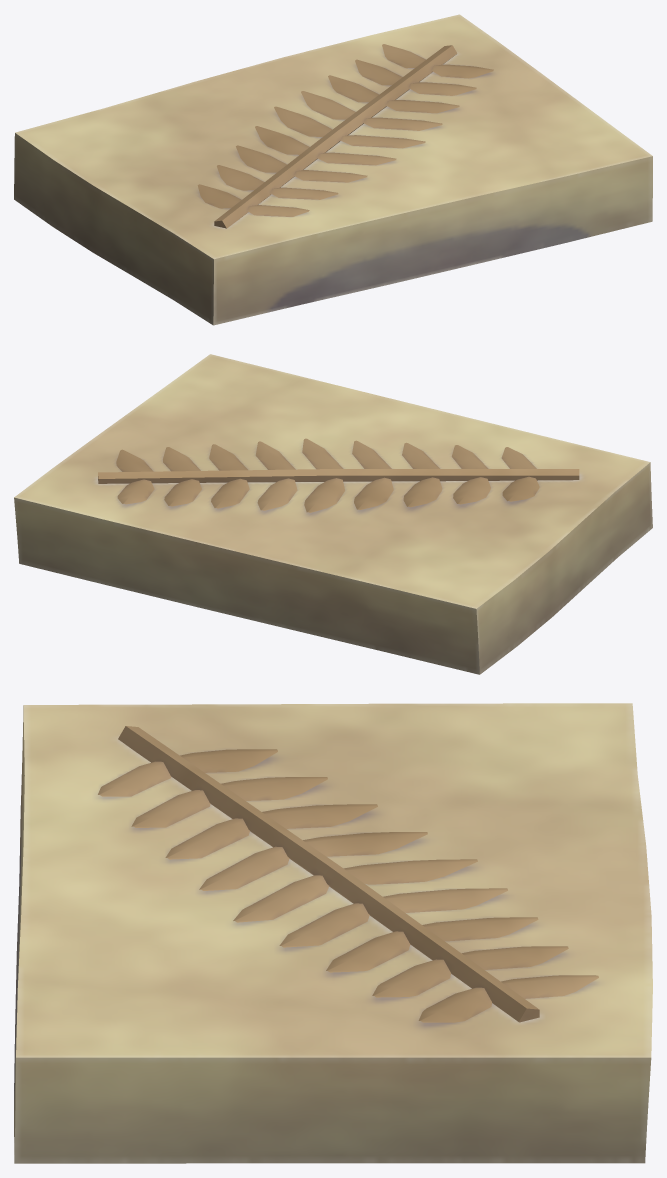
The model's file is plant_slab.glb.
3 views of the same model, one above another, from view 1: azimuth 30°, elevation 25°; view 2: azimuth 150°, elevation 25°; view 3: azimuth 270°, elevation 25° (orthographic). The views are drawn at different scales.
Visible parts, largest first — view 1: SM_PlantSlab; view 2: SM_PlantSlab; view 3: SM_PlantSlab.
Part boxes in pixels (x1,y1,x2,y2): SM_PlantSlab: (14, 14, 652, 325); SM_PlantSlab: (14, 354, 652, 674); SM_PlantSlab: (14, 703, 652, 1163).
Bounding box in the file's own units: 0.5143 × 0.0861 × 0.3823.
2 materials, 2 textured.
